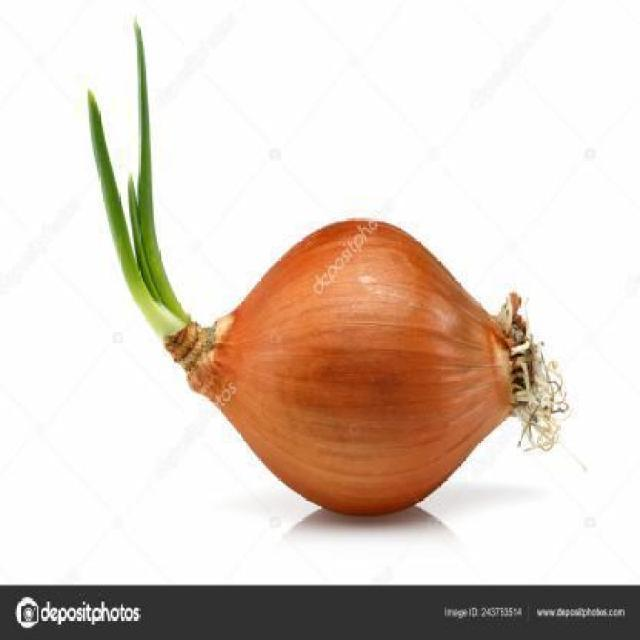sprouting: (88, 25, 566, 514)
